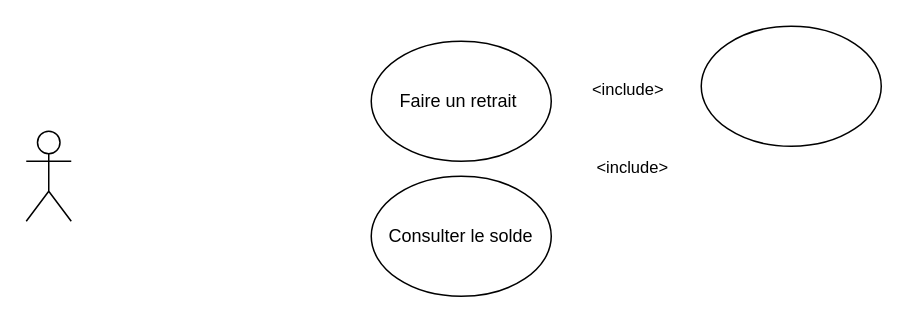
Image size: 908x323. Some labels were removed from this diagram. The shapes that lost their labels are listed below. From the top down, each one's centre as x and y in pixels, then its label:
(x=790, y=85): S'authentifier
(x=48, y=175): Client
